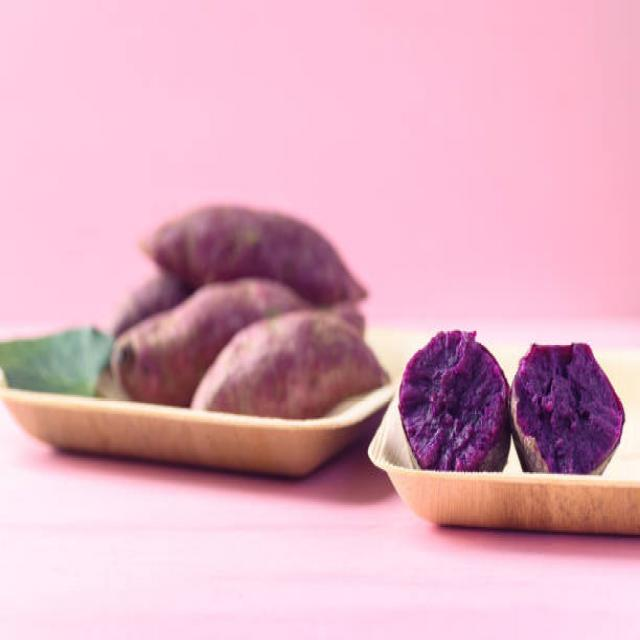sweet potato: (139, 202, 371, 282), (197, 309, 381, 408), (395, 325, 509, 472), (511, 336, 624, 476), (114, 296, 200, 399)
